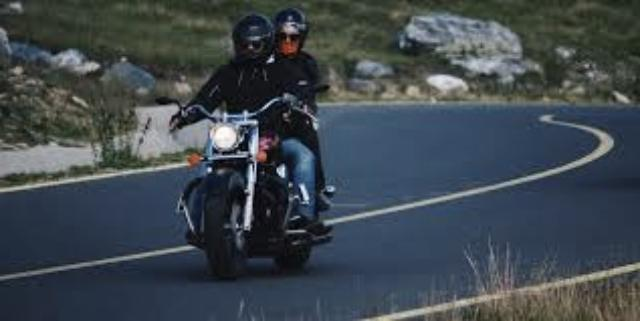helm: (226, 16, 274, 69), (272, 9, 313, 60)
motor: (153, 83, 338, 288)
